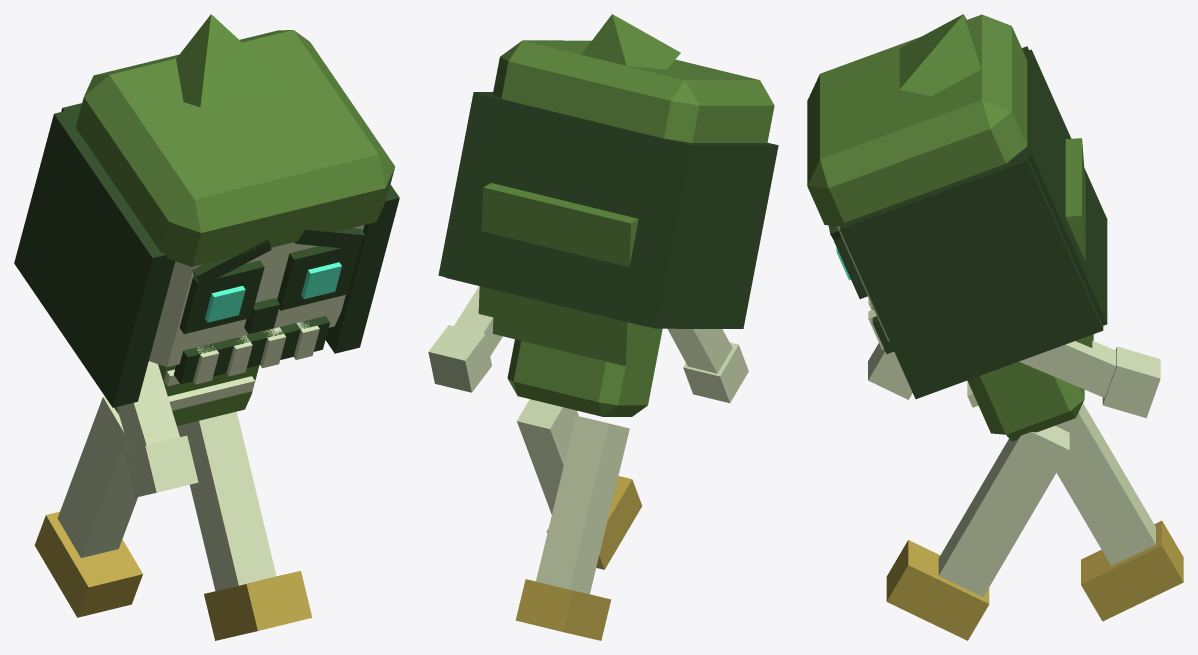
Rendered from scout_r6.glb.
3 renders of one model, left to right at view 1: azimuth 30°, elevation 25°; view 2: azimuth 150°, elevation 25°; view 3: azimuth 270°, elevation 25°, orthographic. The views are drawn at different scales.
Parts seen in each view (by area): view 1: scout_r6_mesh; view 2: scout_r6_mesh; view 3: scout_r6_mesh.
Part boxes in pixels (x1,y1,x2,y2): scout_r6_mesh: (14,14,399,640); scout_r6_mesh: (428,14,778,640); scout_r6_mesh: (807,14,1183,640).
Size of the model in its own units: 0.4831 by 1.2 by 0.6705.
1 material, 1 textured.
